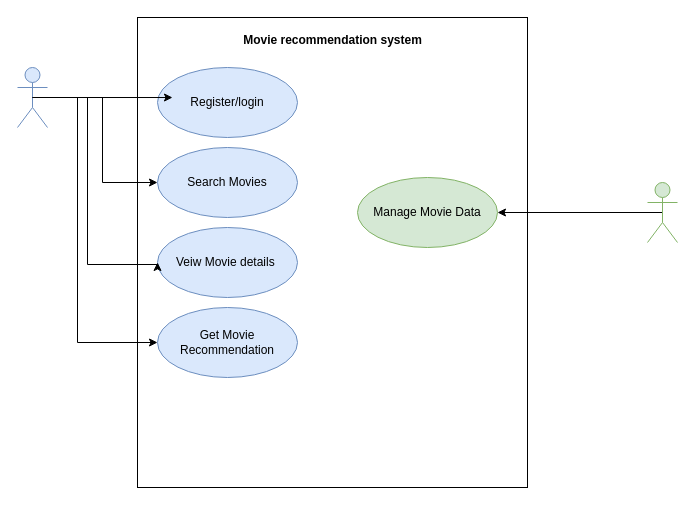
The diagram is 697 pixels wide and 505 high, and some of its shapes have lost their labels. The shapes that lost their labels are listed below. From the top down, each one's centre as x and y in pixels, then its label:
At pixel 32 97: "User".
At pixel 662 212: "Admin".
